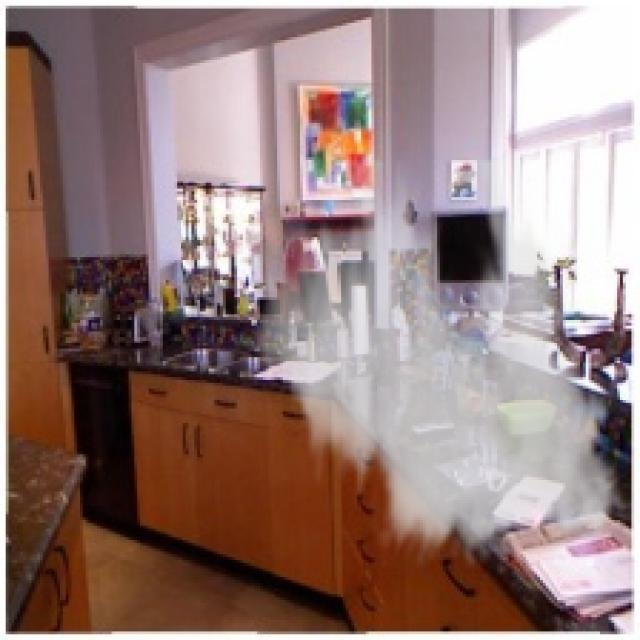smoke: (243, 157, 637, 569)
